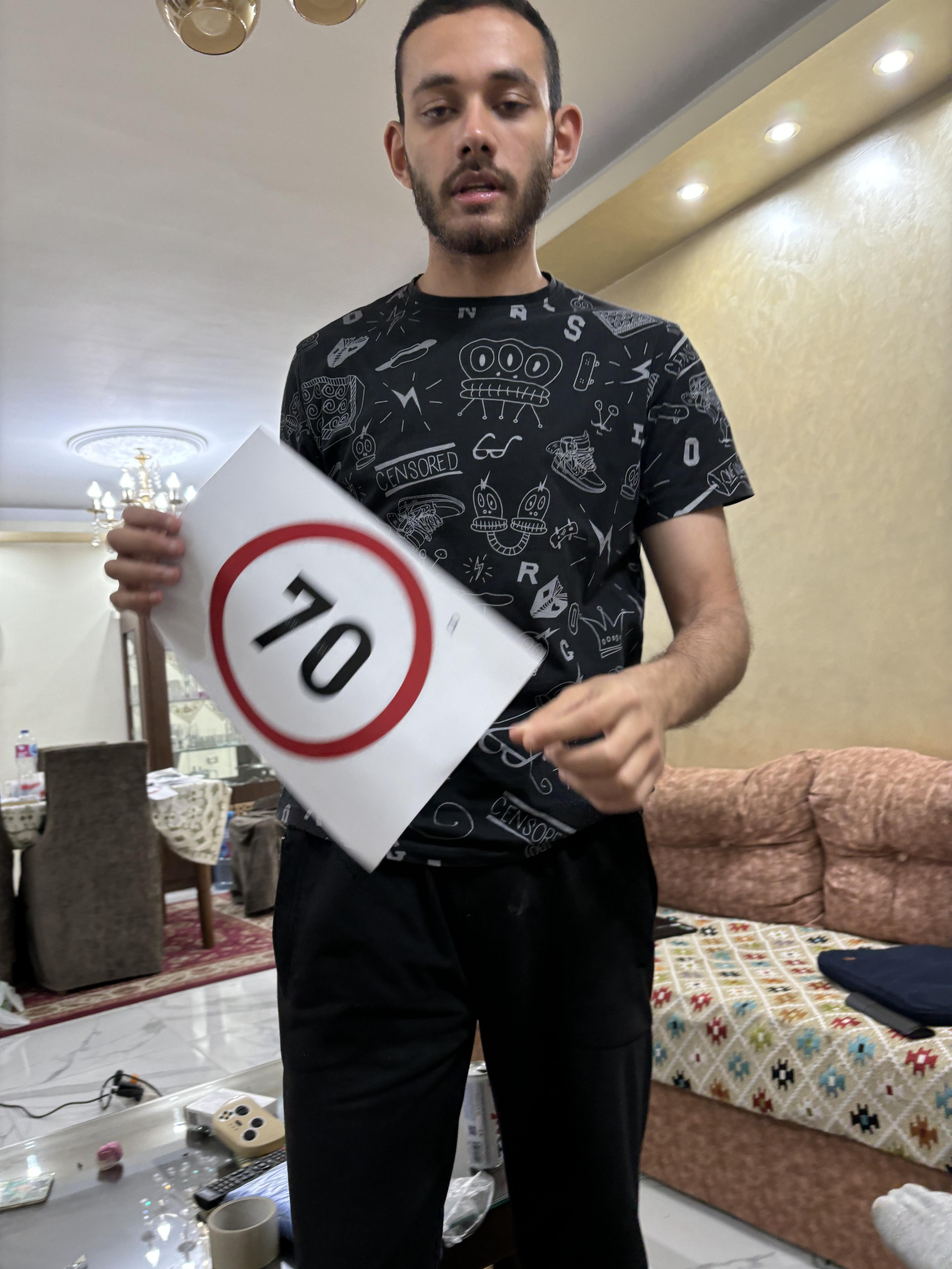70-Speed: (205, 523, 440, 765)
